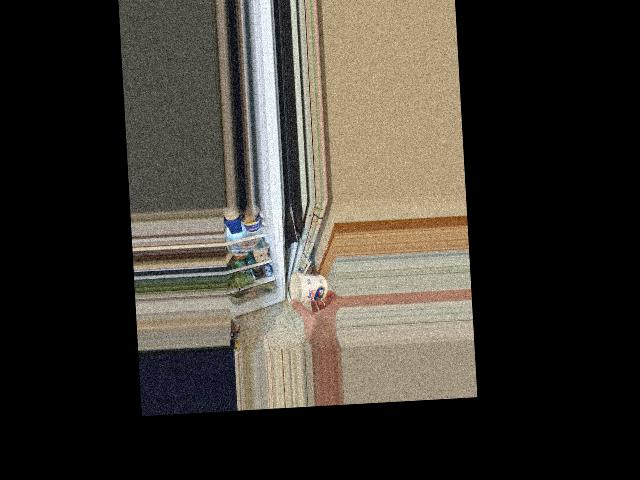cotage: (288, 271, 330, 304)
